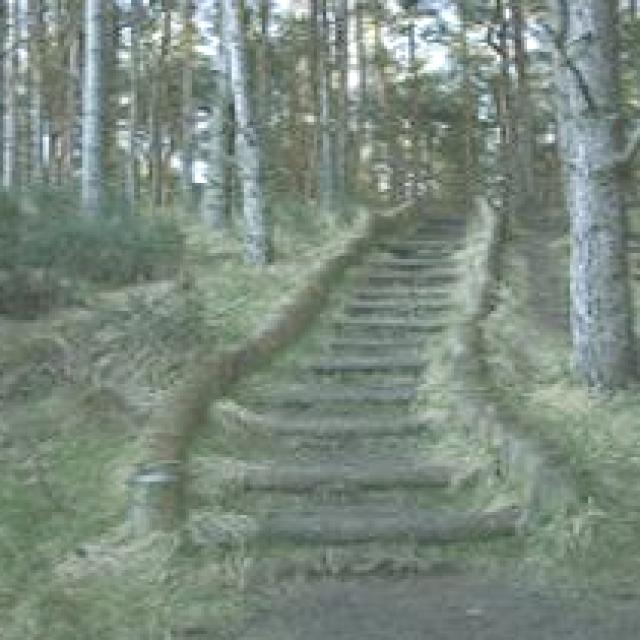upstair: (159, 354, 577, 571)
